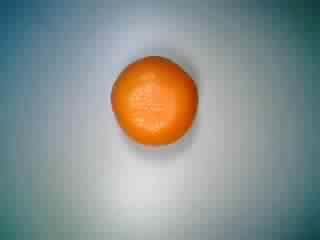orange: (100, 53, 201, 148)
